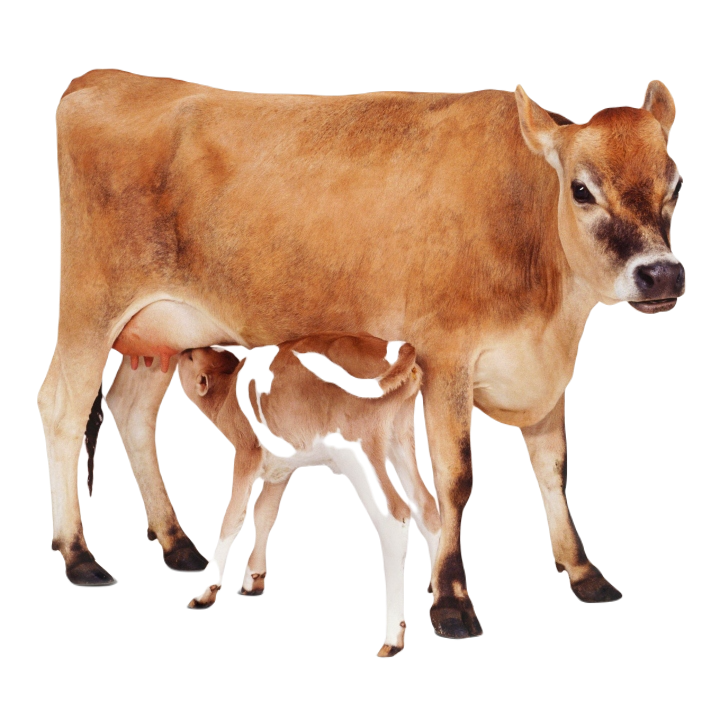Cow: (39, 65, 685, 637)
